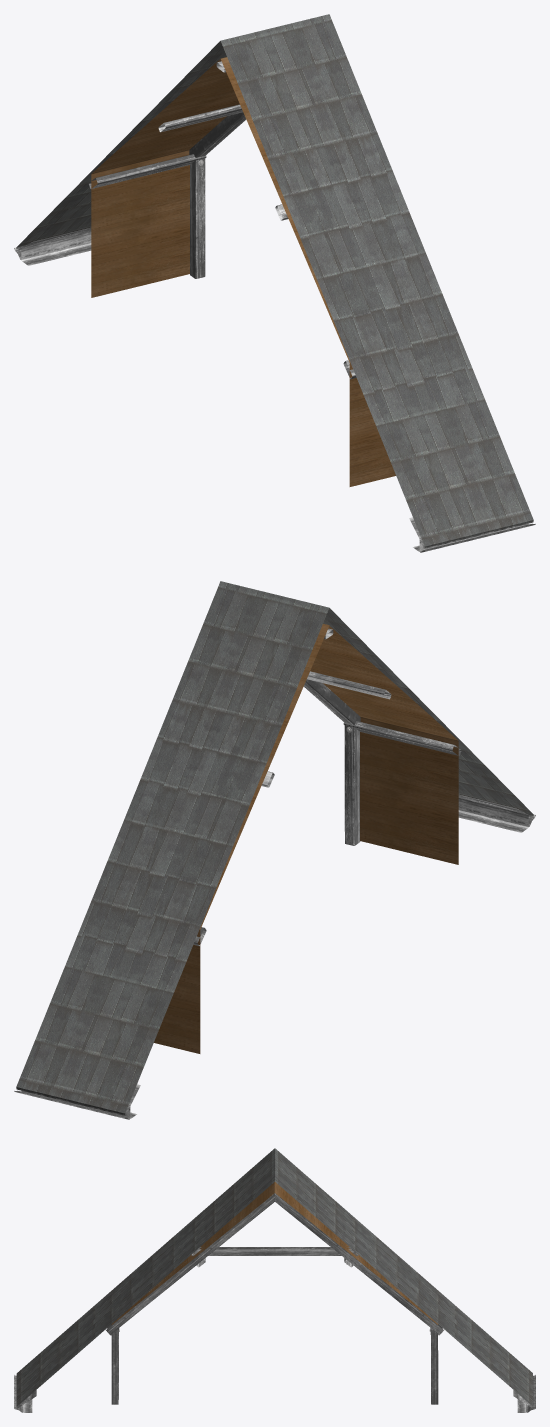
The model's file is SM_Roof_C1.fbx.
3 views of the same model, one above another, from view 1: azimuth 30°, elevation 25°; view 2: azimuth 150°, elevation 25°; view 3: azimuth 270°, elevation 25° (orthographic). The views are drawn at different scales.
Visible parts, largest first — view 1: SM_Roof_C1; view 2: SM_Roof_C1; view 3: SM_Roof_C1.
Boxes of the visible parts, box(x1,y1,x2,y2) form: SM_Roof_C1: box(14, 14, 535, 552); SM_Roof_C1: box(14, 581, 535, 1119); SM_Roof_C1: box(14, 1148, 535, 1412).
Bounding box in the file's own units: 140 × 919 × 449.
Materials: 5 (5 with a texture image).
